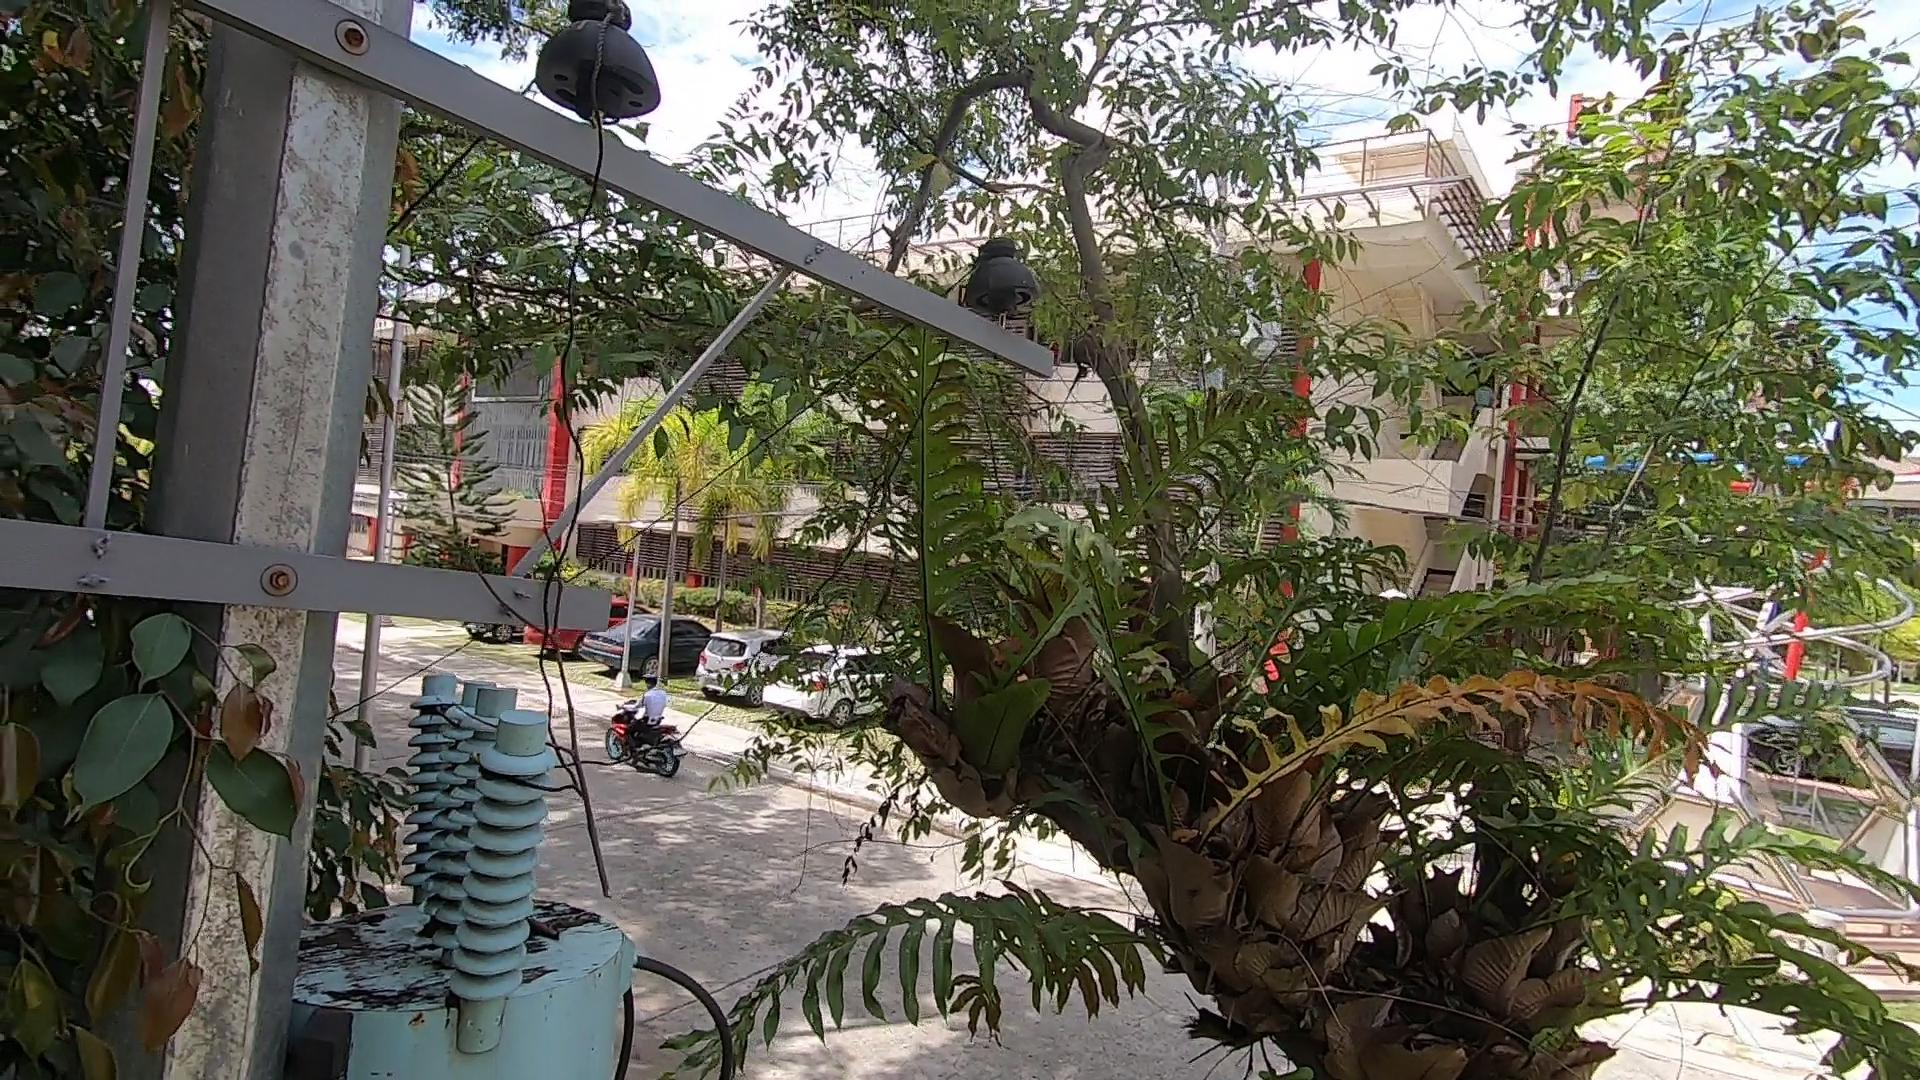leaf: (520, 913, 574, 949)
tree branch: (463, 468, 640, 898)
